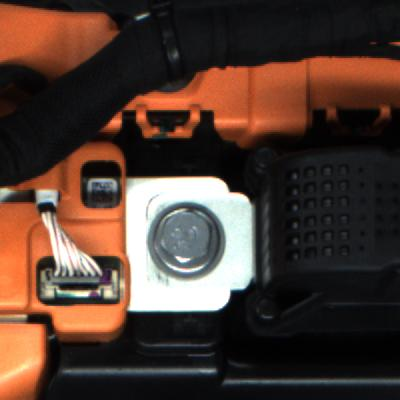nut_b: (140, 192, 245, 287)
